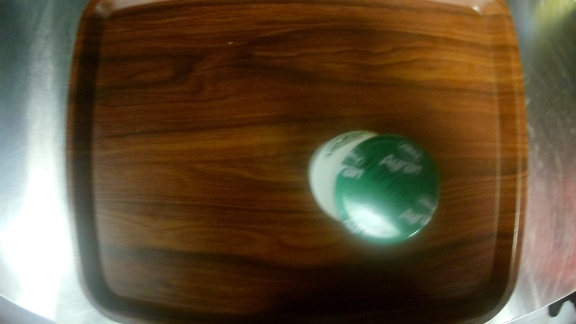ayran: (300, 126, 449, 251)
